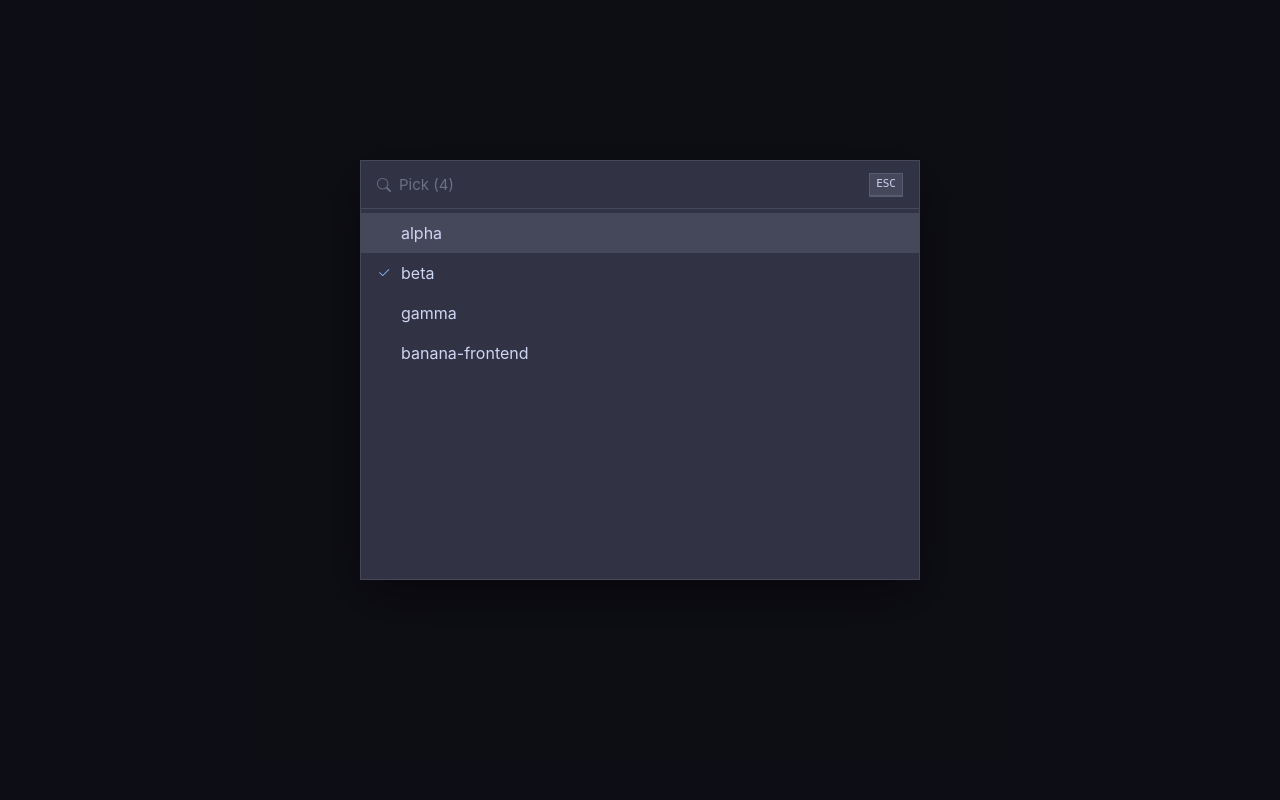
CommandListPicker › searchable (default) › shows the empty message when nothing matches
Step 1. Type "zzzz" into the dropdown → (630, 184), box [399,175,861,194]
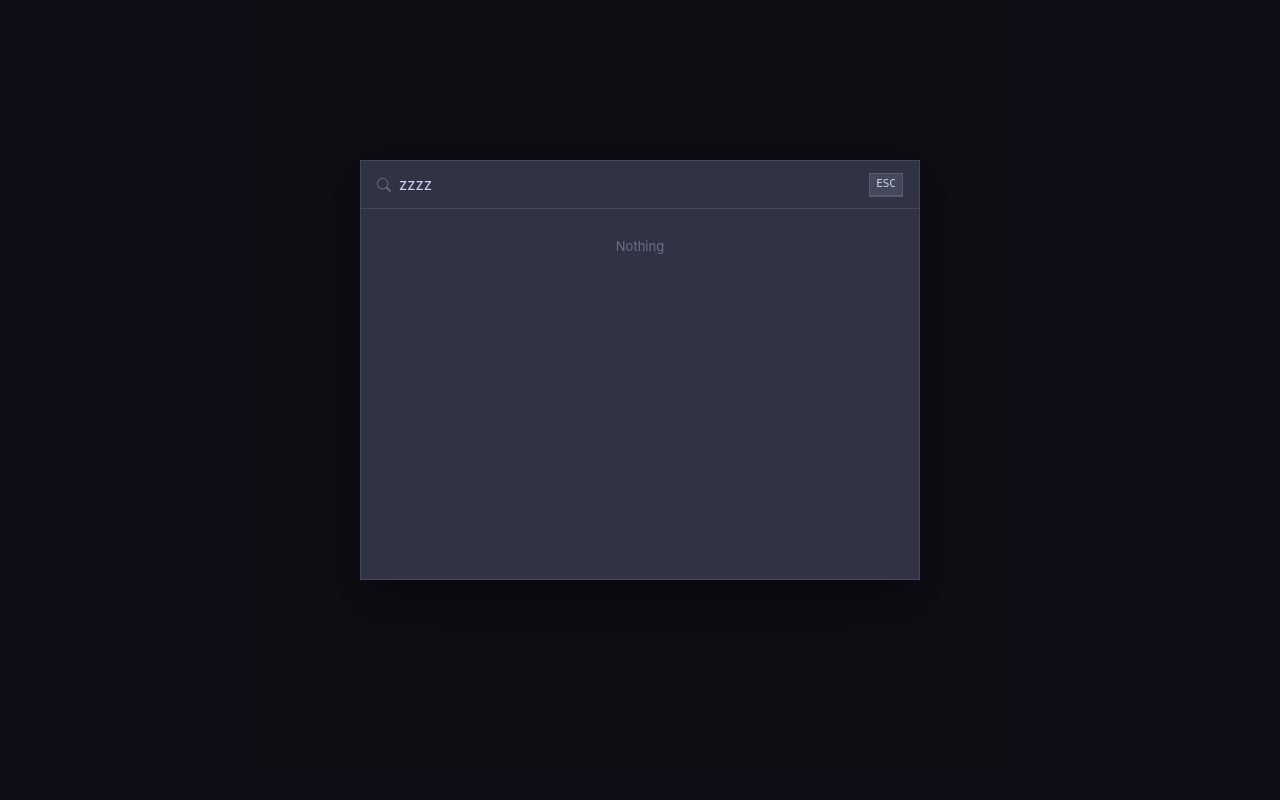
Expected: the text "Nothing" is shown, [616,238,664,254]
